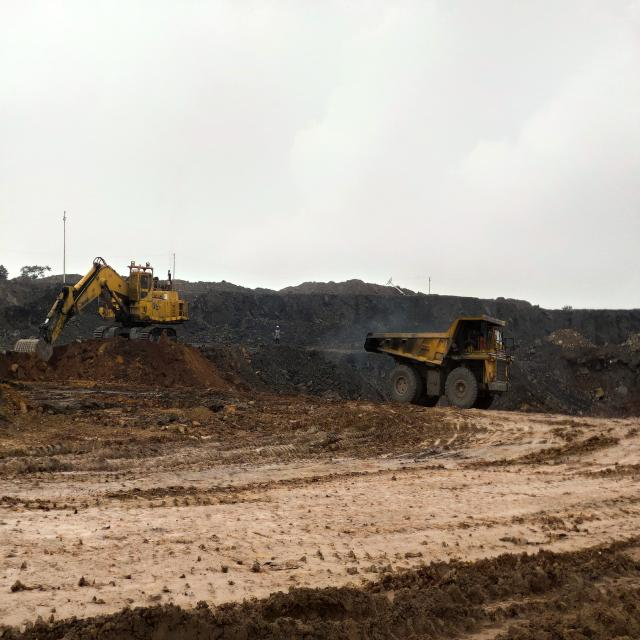dump_truck: (364, 318, 513, 411)
excavator: (13, 262, 187, 361)
